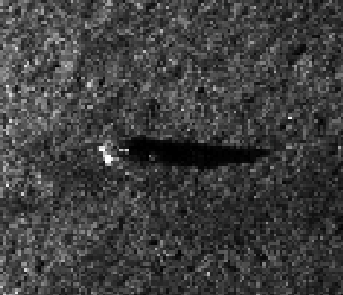mine: (96, 133, 272, 170)
